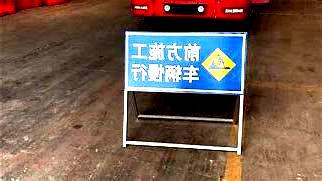sign: (125, 32, 243, 94)
